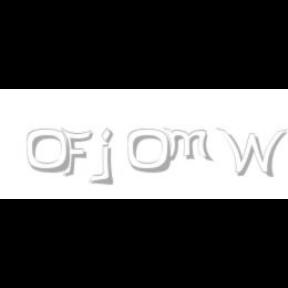F: (60, 128, 92, 178)
O: (26, 128, 72, 174), (128, 128, 172, 174)
W: (215, 128, 287, 178)
j: (98, 128, 128, 186)
m: (162, 128, 214, 162)
